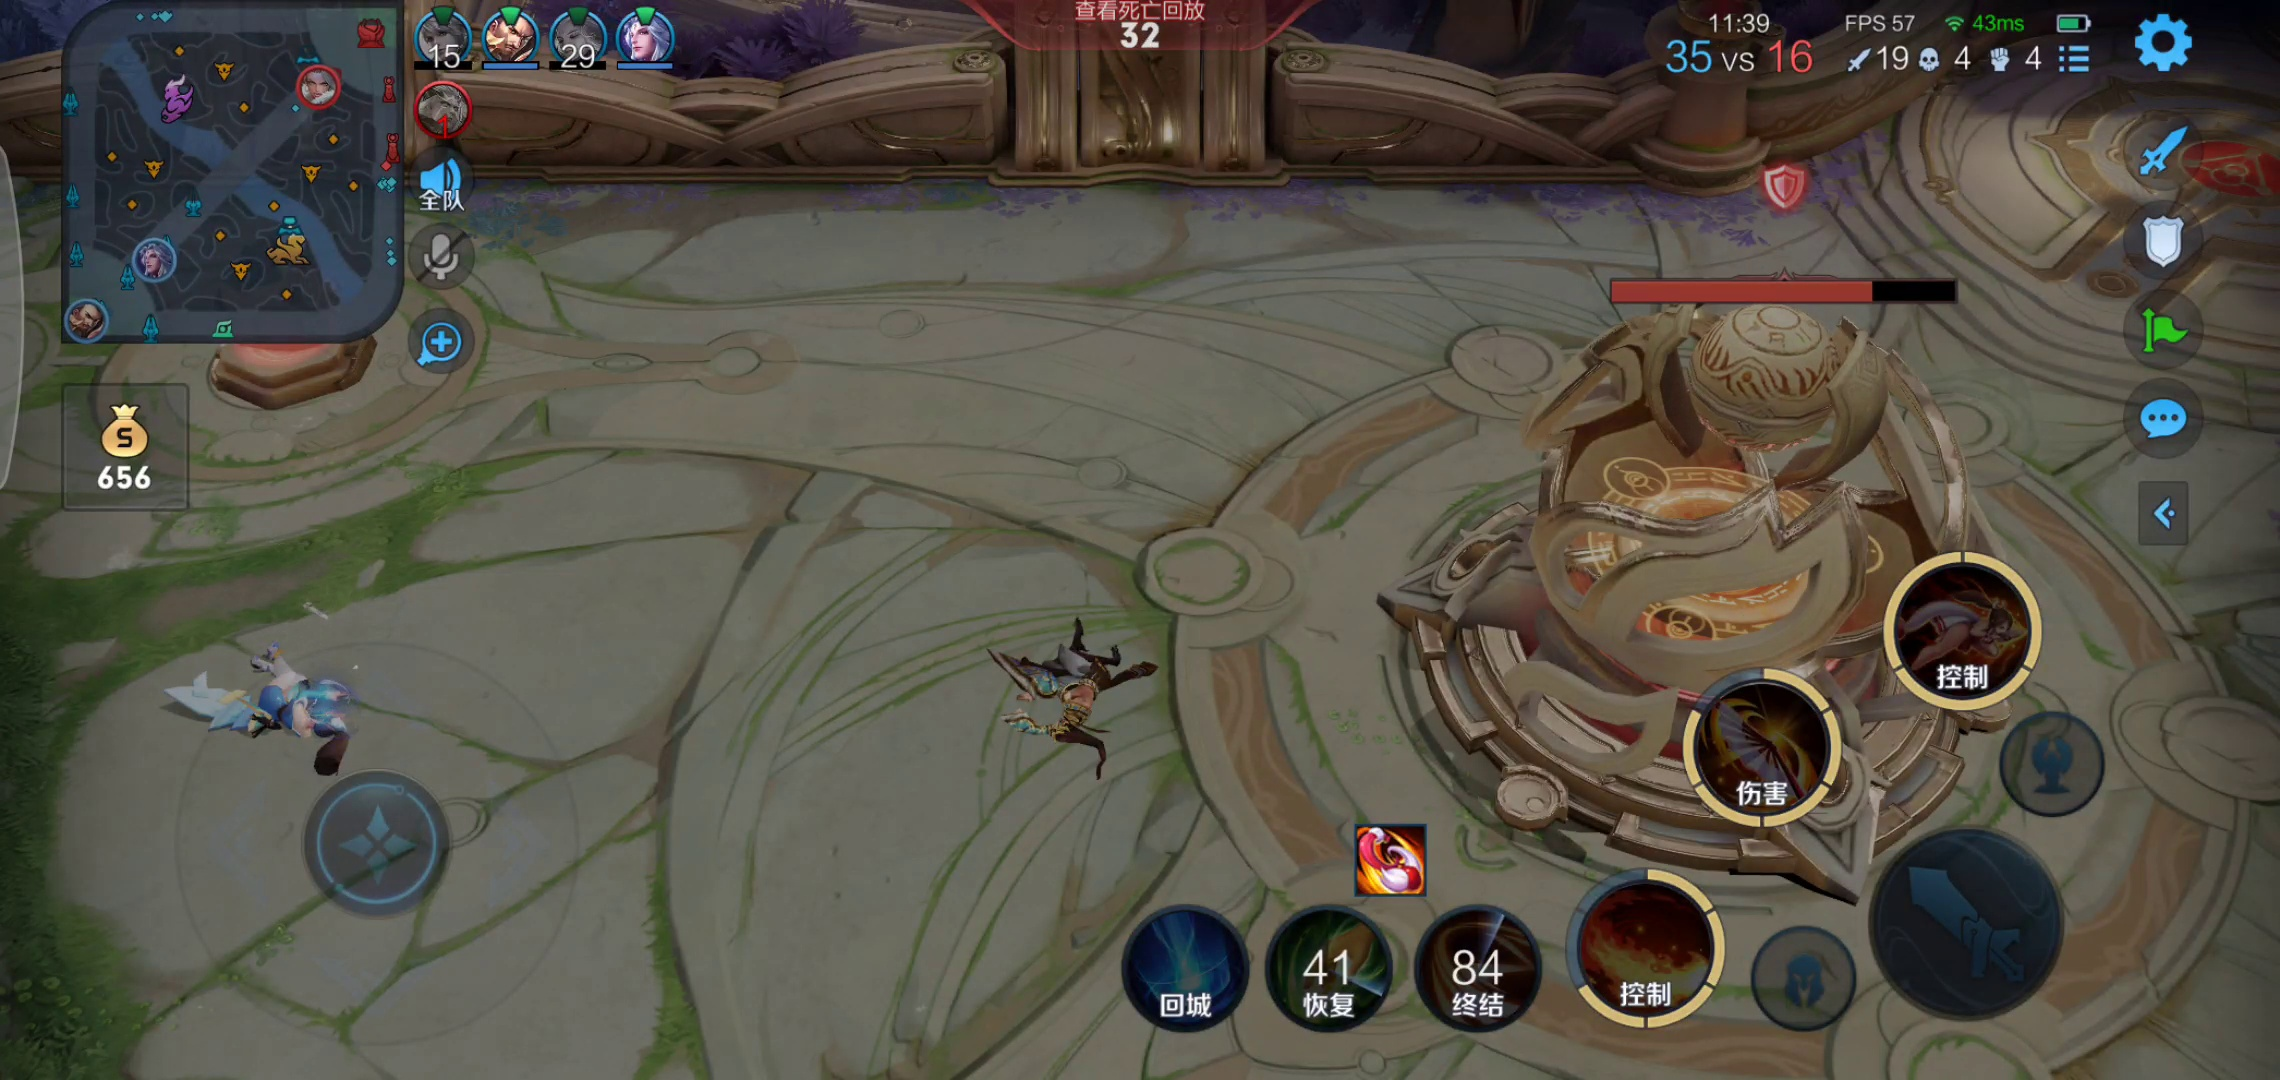crystal: (1365, 272, 2071, 927)
hero: (974, 612, 1185, 770), (154, 632, 385, 766)
tower: (195, 340, 384, 422)
